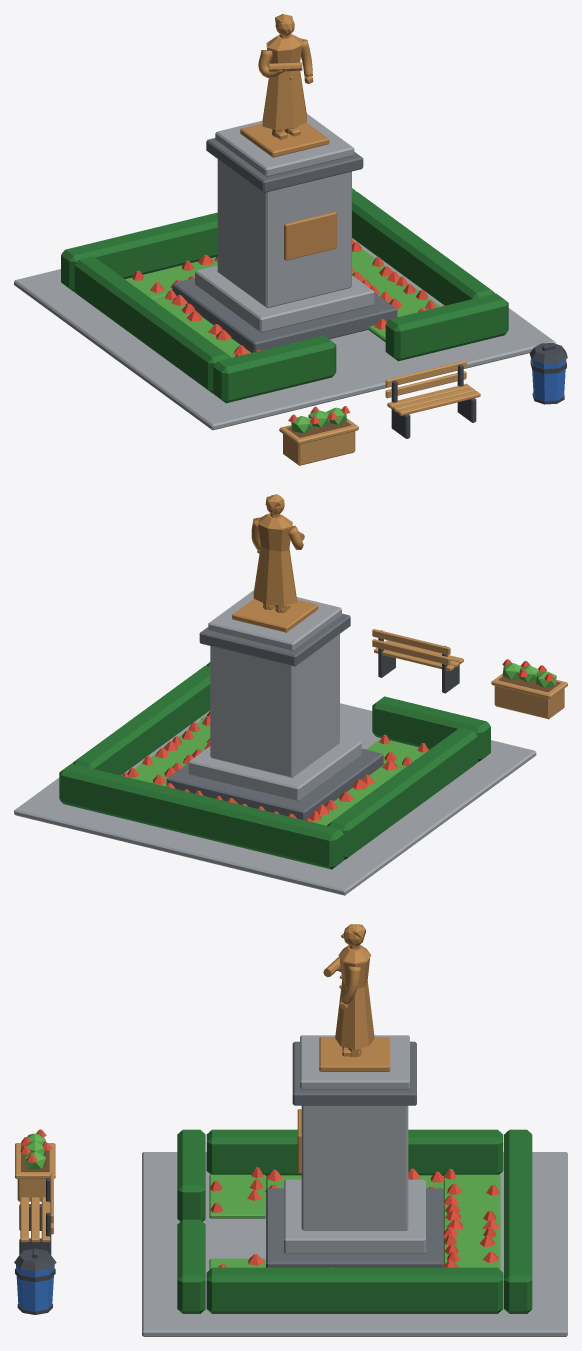
Rendered from founder-statue-monument.glb.
The picture shows the model from 3 angles, top to bottom: view 1: azimuth 30°, elevation 25°; view 2: azimuth 150°, elevation 25°; view 3: azimuth 270°, elevation 25°; orthographic projection. The views are drawn at different scales.
Parts seen in each view (by area): view 1: Plaza_Pad, Plinth_Shaft, Hedge_L, Hedge_R, Hedge_Back, Hedge_FrontR, Hedge_FrontL, Plinth_Step1, Plinth_Step2, Bench, Plinth_Top, Plinth_Cornice (+12 smaller); view 2: Plaza_Pad, Plinth_Shaft, Hedge_Back, Hedge_L, Hedge_R, Plinth_Step2, Plinth_Step1, Hedge_FrontL, Plinth_Top, Plinth_Cornice, Flowers, Bench (+9 smaller); view 3: Plaza_Pad, Hedge_R, Plinth_Shaft, Hedge_L, Plinth_Step2, Hedge_Back, Plinth_Step1, Lawn_Back, Plinth_Top, Flowers, Plinth_Cornice, Hedge_FrontR (+10 smaller).
Boxes of the visible parts, <box> form: Plaza_Pad: <box>14,238,555,430</box>; Plinth_Shaft: <box>217,159,351,308</box>; Hedge_L: <box>74,256,230,393</box>; Hedge_R: <box>352,192,494,305</box>; Hedge_Back: <box>61,188,356,291</box>; Hedge_FrontR: <box>385,293,508,361</box>; Hedge_FrontL: <box>213,335,336,403</box>; Plinth_Step1: <box>172,278,397,352</box>; Plinth_Step2: <box>195,265,374,332</box>; Bench: <box>385,360,480,422</box>; Plinth_Top: <box>215,113,354,176</box>; Plinth_Cornice: <box>206,138,363,192</box>; Plaza_Pad: <box>14,703,536,895</box>; Plinth_Shaft: <box>210,634,339,777</box>; Hedge_Back: <box>59,763,343,869</box>; Hedge_L: <box>327,727,477,859</box>; Hedge_R: <box>72,665,210,775</box>; Plinth_Step2: <box>188,736,361,801</box>; Plinth_Step1: <box>166,748,383,820</box>; Hedge_FrontL: <box>372,696,490,761</box>; Plinth_Top: <box>208,590,341,651</box>; Plinth_Cornice: <box>199,613,350,666</box>; Flowers: <box>122,711,428,822</box>; Bench: <box>372,629,463,677</box>; Plaza_Pad: <box>142,1152,567,1336</box>; Hedge_R: <box>206,1267,503,1313</box>; Plinth_Shaft: <box>301,1105,408,1230</box>; Hedge_L: <box>206,1129,503,1175</box>; Plinth_Step2: <box>284,1179,425,1254</box>; Hedge_Back: <box>504,1129,532,1313</box>; Plinth_Step1: <box>266,1188,443,1267</box>; Lawn_Back: <box>443,1174,500,1269</box>; Plinth_Top: <box>300,1035,409,1089</box>; Flowers: <box>209,1167,499,1267</box>; Plinth_Cornice: <box>292,1041,416,1105</box>; Hedge_FrontR: <box>177,1219,205,1313</box>.
Bounding box in the file's own units: 24 × 20.1 × 31.2.
